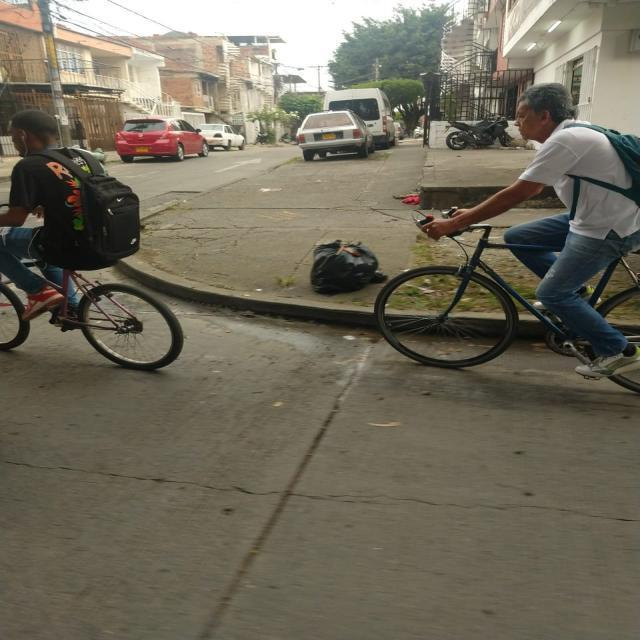Garbage_Bag: (301, 230, 389, 292)
